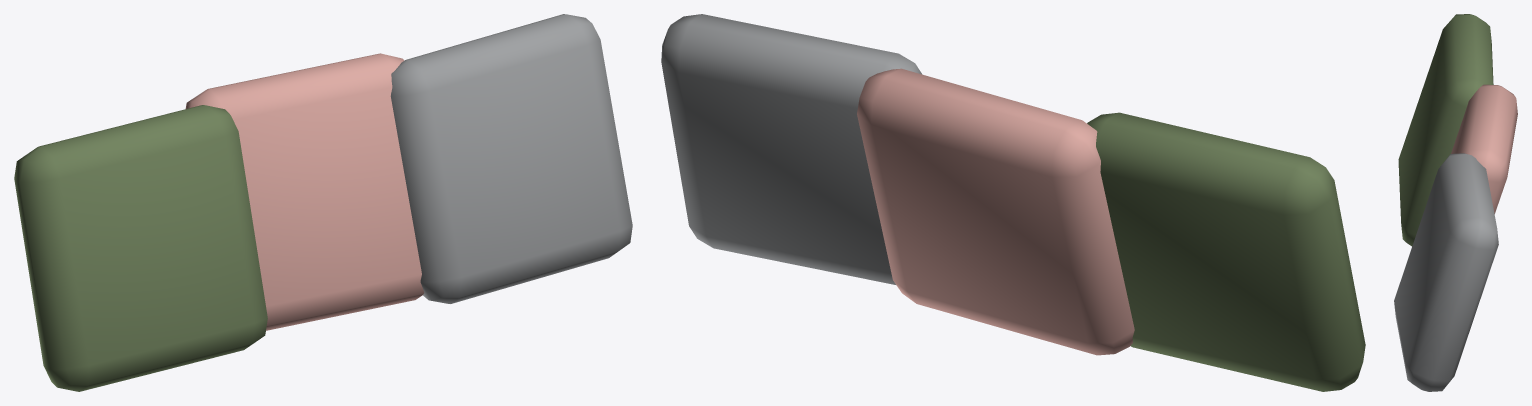
Rendered from i_pillows_2.glb.
3 views of the same model, side by side, from view 1: azimuth 30°, elevation 25°; view 2: azimuth 150°, elevation 25°; view 3: azimuth 270°, elevation 25° (orthographic). The views are drawn at different scales.
Parts seen in each view (by area): view 1: o, o.002, o.001; view 2: o.001, o, o.002; view 3: o.002, o, o.001.
Part boxes in pixels (<box>): o: <box>14,105,267,391</box>; o.002: <box>390,14,632,303</box>; o.001: <box>185,53,424,330</box>; o.001: <box>857,68,1134,355</box>; o: <box>1087,112,1365,391</box>; o.002: <box>661,14,922,284</box>; o.002: <box>1394,153,1498,391</box>; o: <box>1398,14,1493,246</box>; o.001: <box>1451,84,1517,213</box>.
Bounding box in the file's own units: 1.35 × 0.4812 × 0.3148.
